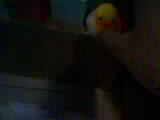duck: (74, 5, 119, 40)
